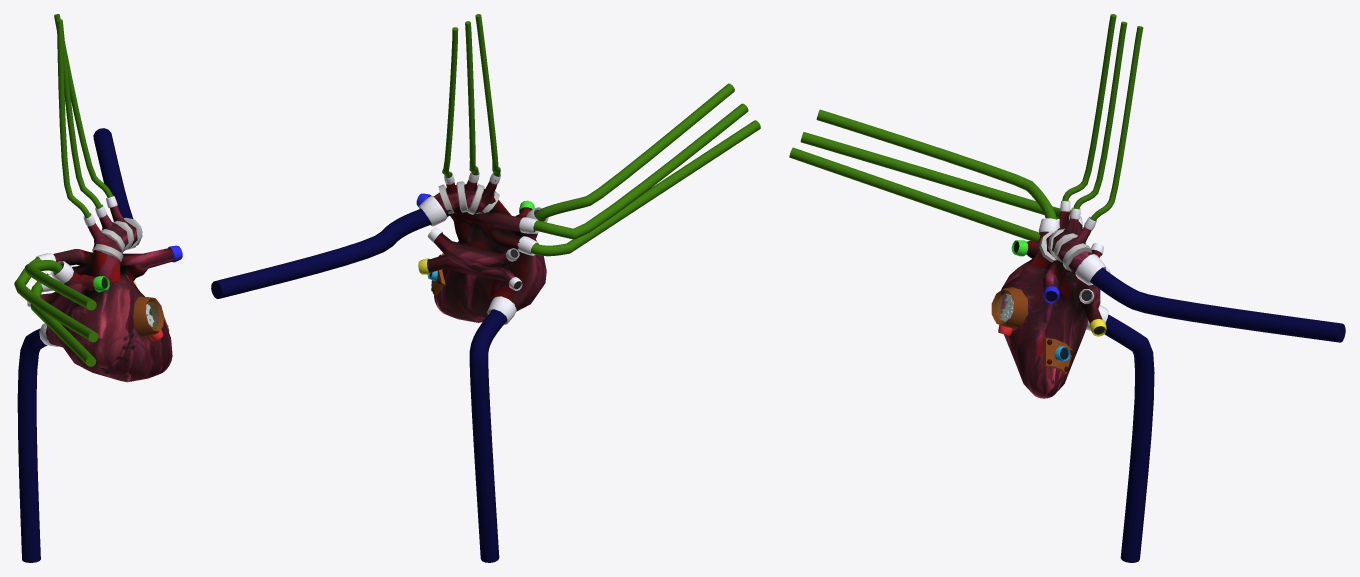
Rendered from PunkHeart07.FBX.
3 views of the same model, side by side, from view 1: azimuth 30°, elevation 25°; view 2: azimuth 150°, elevation 25°; view 3: azimuth 270°, elevation 25° (orthographic). The views are drawn at different scales.
Parts seen in each view (by area): view 1: Heart, Line004, Line002, Line001, Line003, GearWindow, Connector013, Cylinder017, Connector01; view 2: Heart, Line002, Line004, Line003, Line001; view 3: Heart, Line002, Line003, Line004, Line001, GearWindow.
Boxes of the visible parts, <box> form: Heart: <box>40,205,174,382</box>; Line004: <box>17,328,47,562</box>; Line002: <box>14,257,98,366</box>; Line001: <box>54,14,112,218</box>; Line003: <box>93,128,142,232</box>; GearWindow: <box>133,296,163,337</box>; Connector013: <box>50,261,73,283</box>; Cylinder017: <box>92,244,123,261</box>; Connector01: <box>93,276,109,292</box>; Heart: <box>427,180,546,322</box>; Line002: <box>530,83,760,256</box>; Line004: <box>469,309,507,562</box>; Line003: <box>211,208,431,298</box>; Line001: <box>442,14,500,177</box>; Heart: <box>1001,211,1102,398</box>; Line002: <box>789,109,1071,241</box>; Line003: <box>1090,267,1345,342</box>; Line004: <box>1104,314,1154,562</box>; Line001: <box>1062,14,1143,220</box>; GearWindow: <box>991,287,1027,329</box>.
Size of the model in its own units: 245 by 433 by 394.
